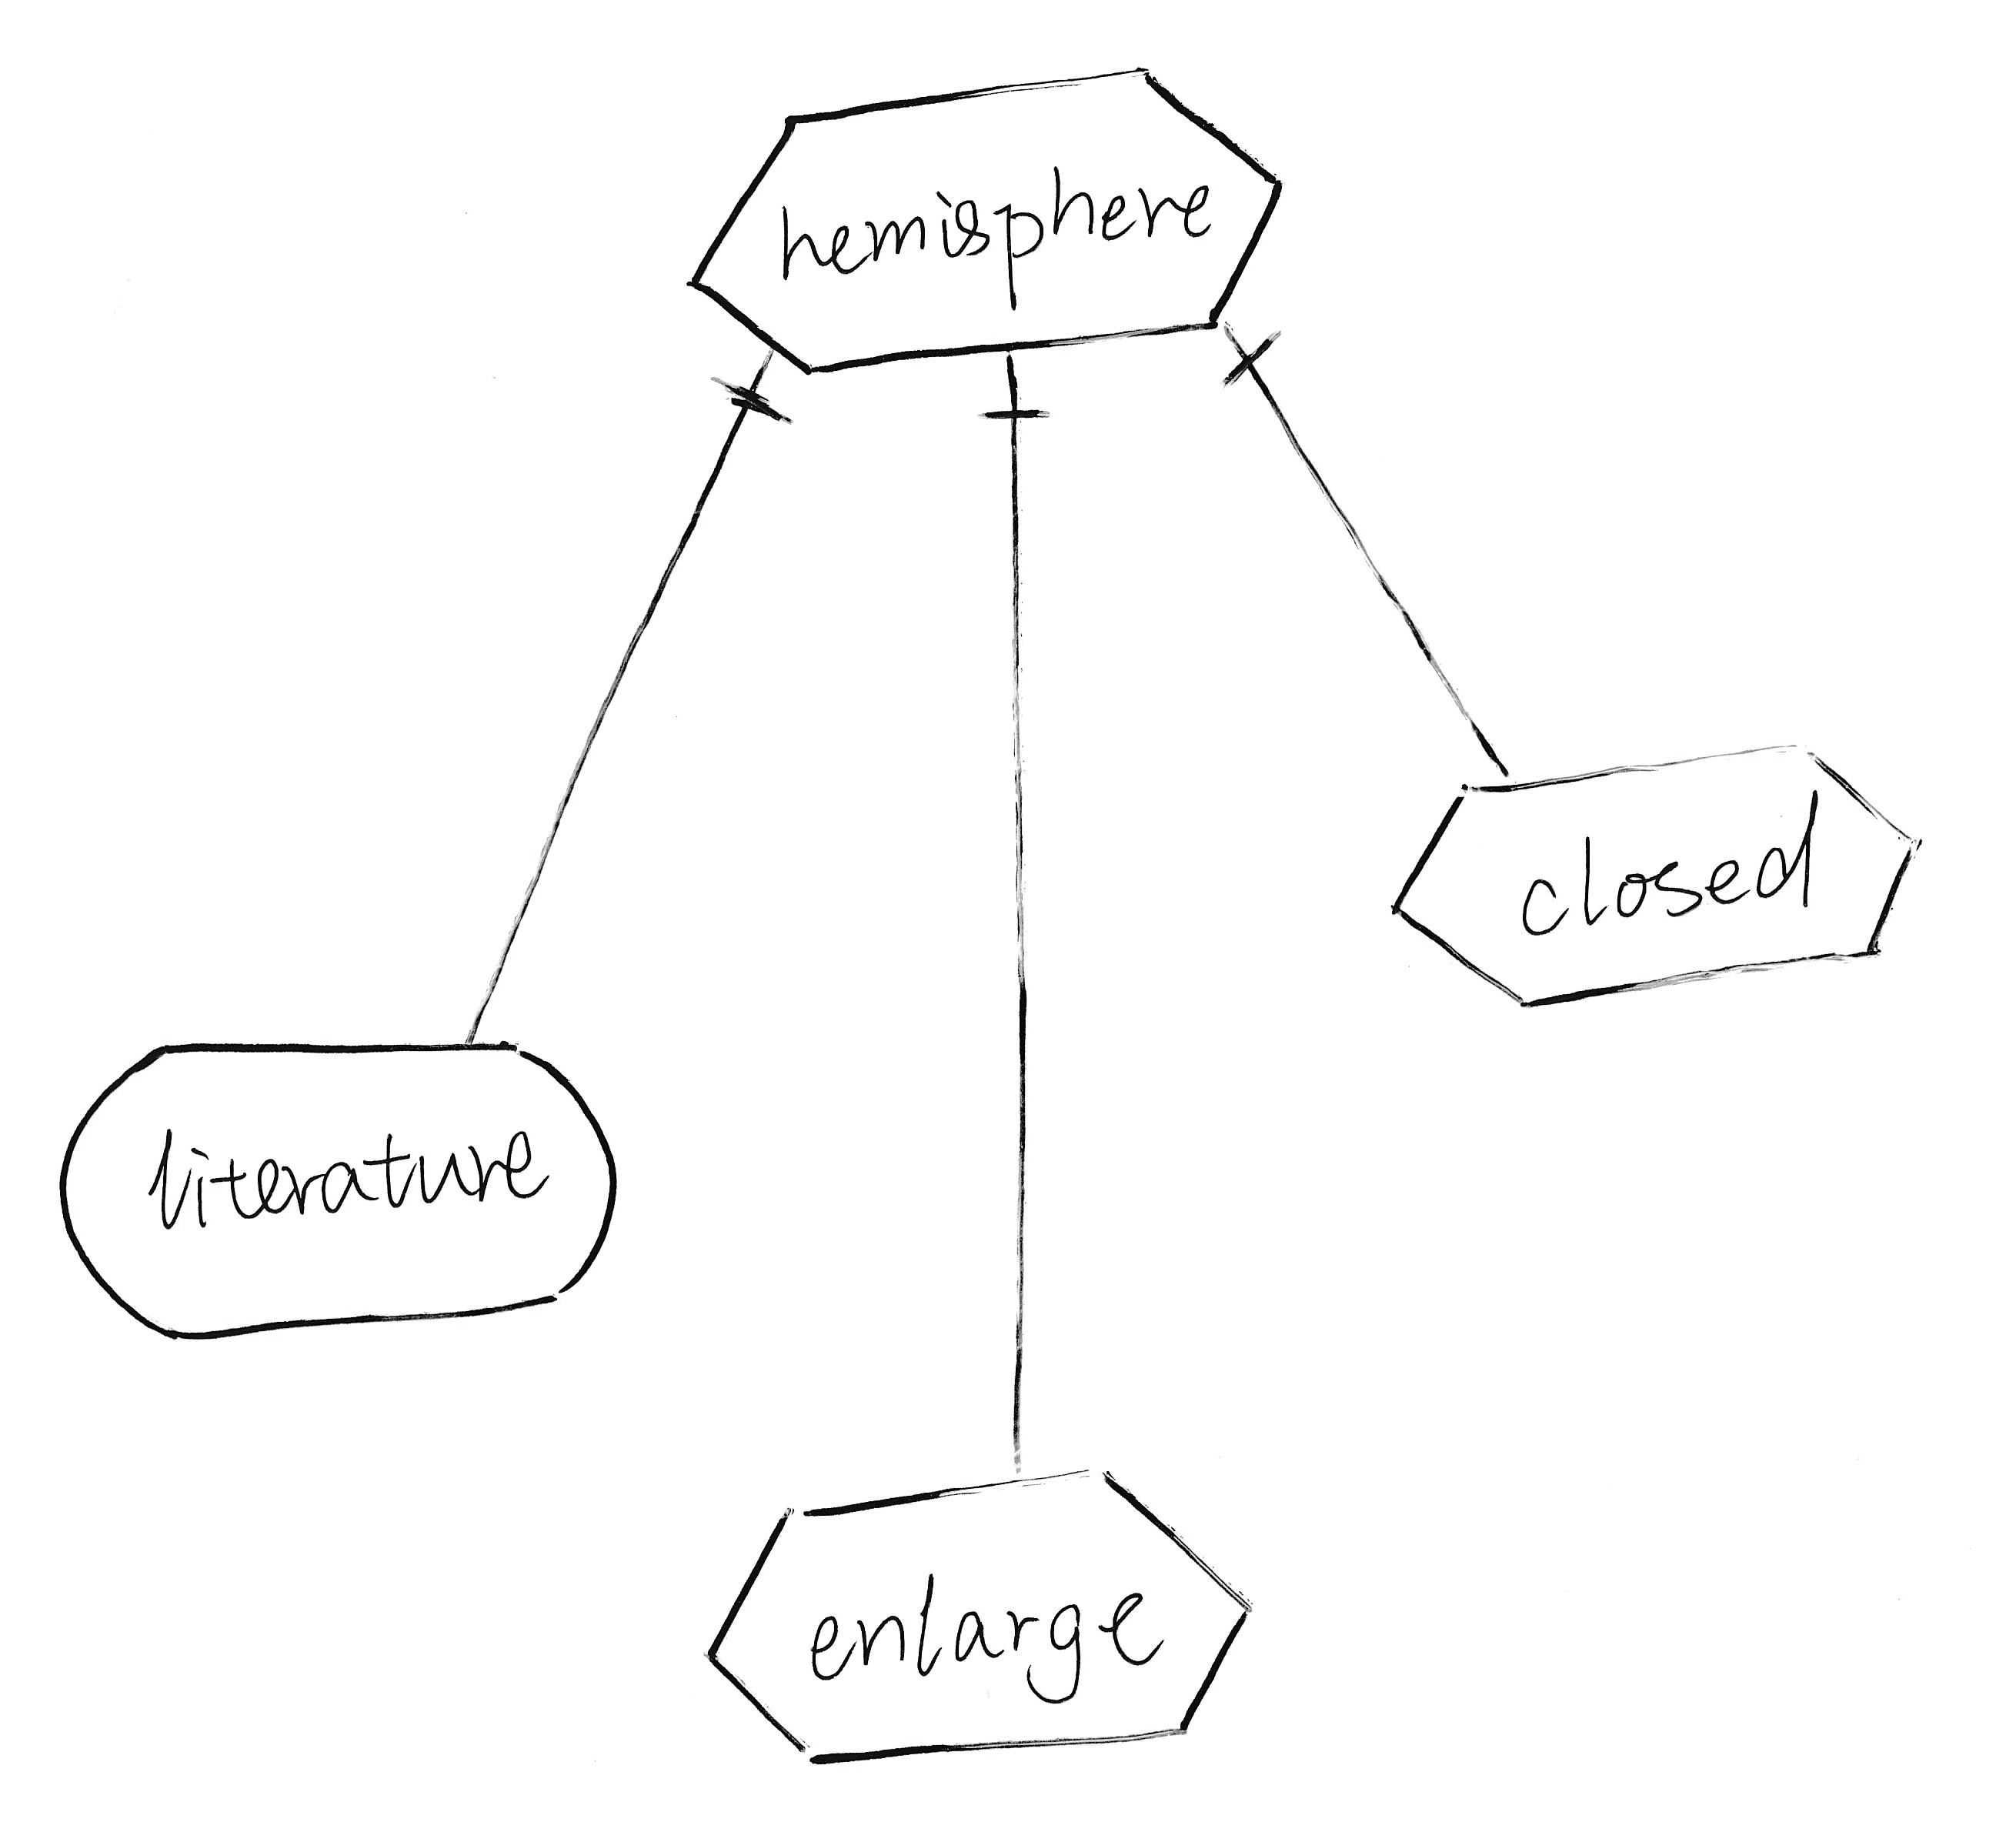and: (688, 342, 806, 458), (971, 353, 1078, 455), (1203, 318, 1296, 418)
goal: (39, 1015, 630, 1353)
task: (673, 49, 1296, 390), (683, 1448, 1266, 1787), (1366, 725, 1939, 1027)
